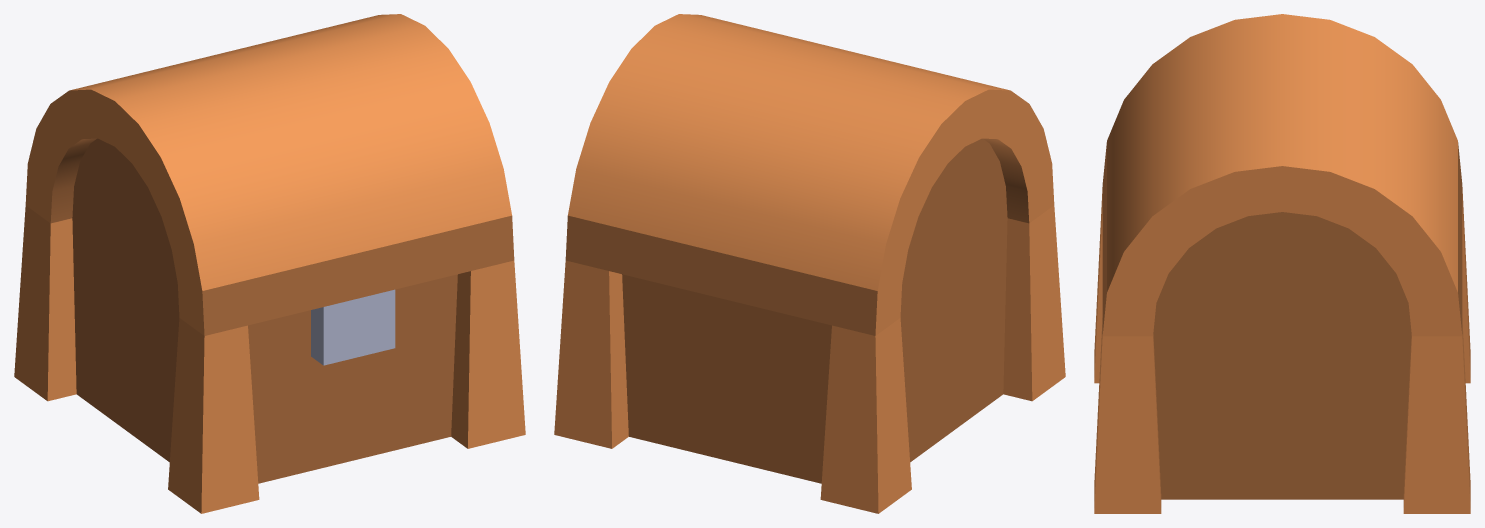
File: chest.gltf
The picture shows the model from 3 angles, left to right: view 1: azimuth 30°, elevation 25°; view 2: azimuth 150°, elevation 25°; view 3: azimuth 270°, elevation 25°; orthographic projection.
Parts seen in each view (by area): view 1: lid, chest; view 2: lid, chest; view 3: lid, chest.
Boxes of the visible parts, <box> form: lid: <box>25,14,514,335</box>; chest: <box>14,205,525,513</box>; lid: <box>565,14,1054,335</box>; chest: <box>554,205,1065,513</box>; lid: <box>1102,14,1462,336</box>; chest: <box>1094,187,1470,513</box>.
Size of the model in its own units: 0.2604 by 0.2628 by 0.2604.
